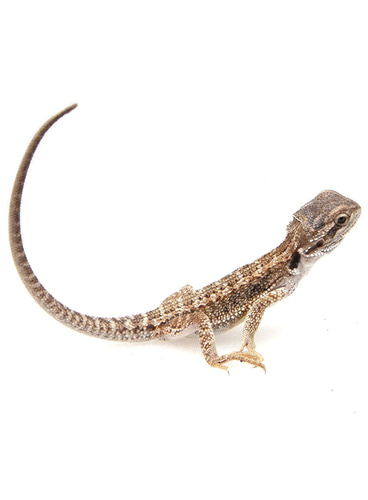bearded: (6, 100, 360, 378)
